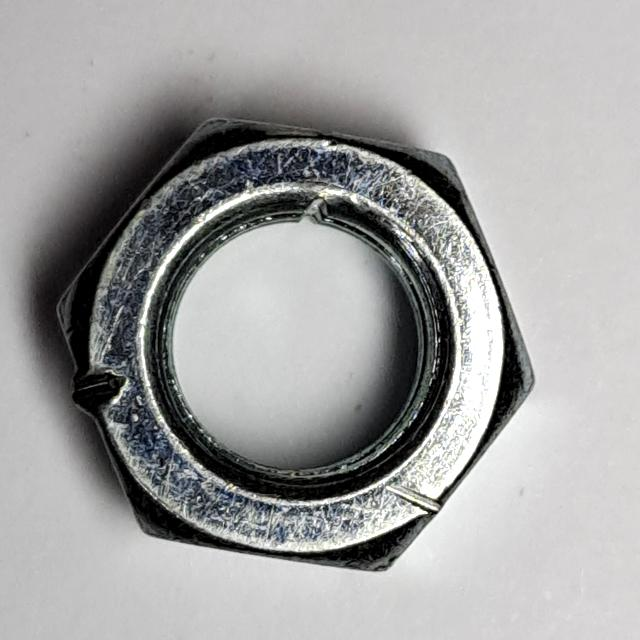Scratches: (49, 102, 545, 583)
